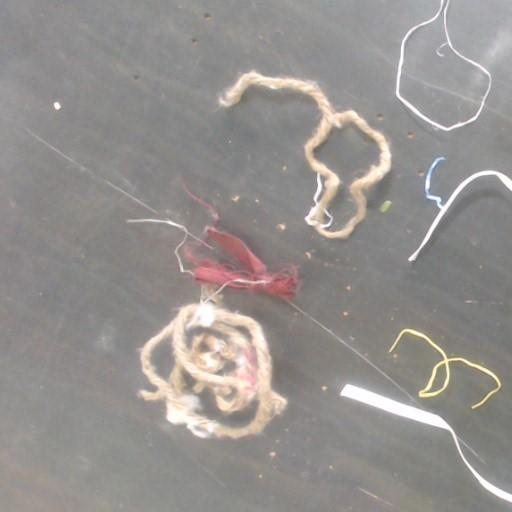jute: (139, 252, 295, 438), (219, 71, 390, 238)
thread: (342, 384, 511, 502), (396, 0, 491, 131), (408, 157, 511, 262), (390, 330, 501, 409)
